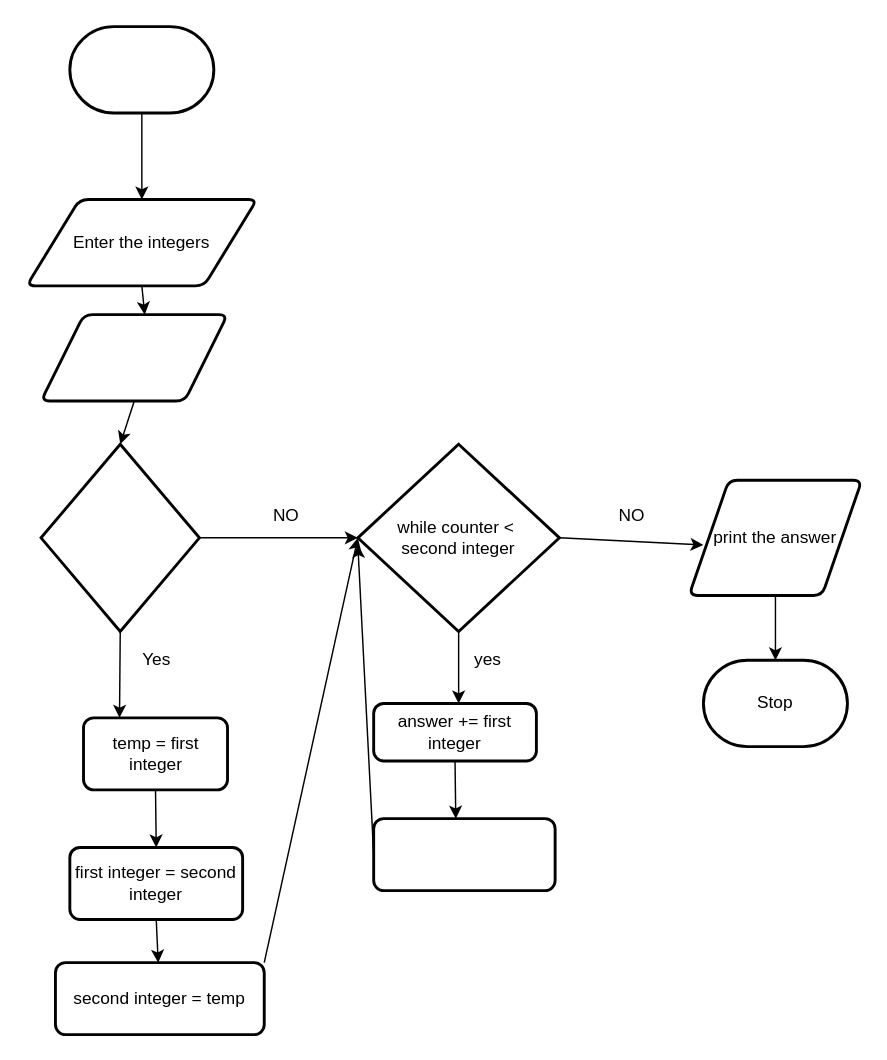
Some shapes in this 887 by 1060 pixel diagram are drawn without their labels. The shapes that lost their labels are listed below. From the top down, each one's centre as x and y in pixels, then its label:
At [141,69]: "Start".
At [133,357]: "Enter the second integer".
At [119,537]: "if first integer > 0".
At [464,853]: "counter ++".
